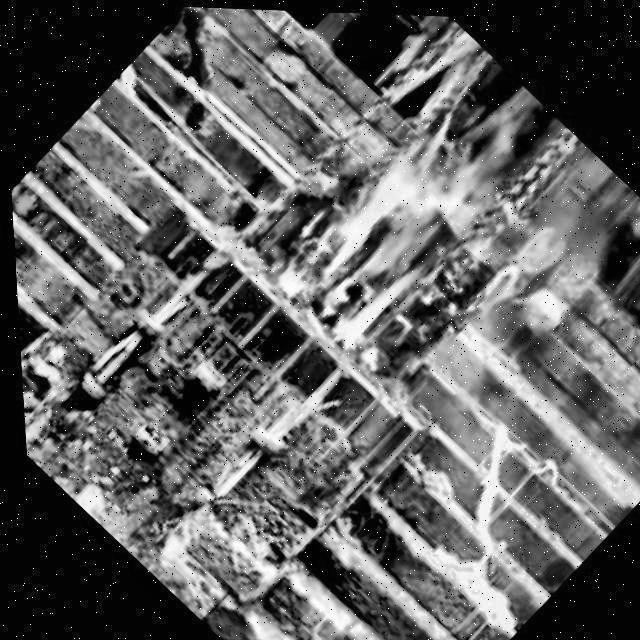Fire: (253, 105, 509, 360)
